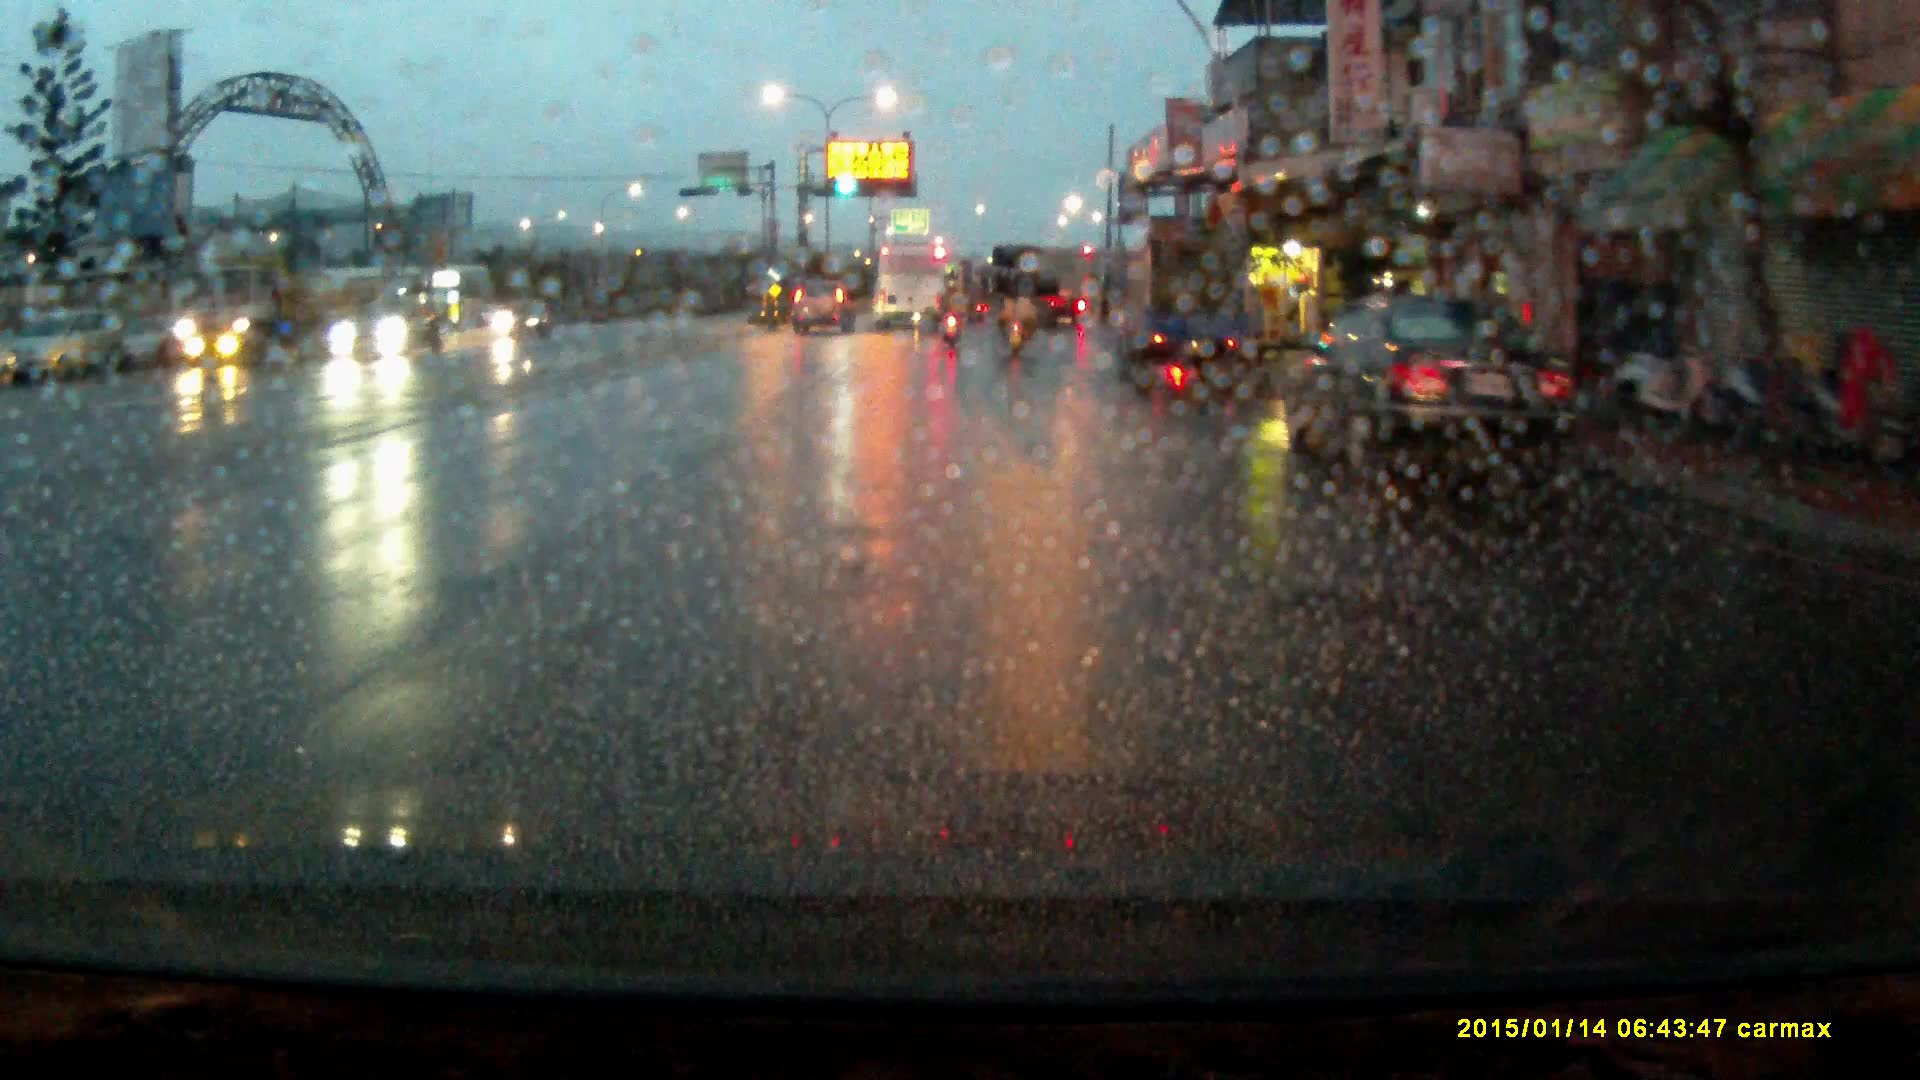rider: (997, 276, 1033, 359), (939, 284, 969, 354)
vehicle: (1298, 297, 1565, 501), (184, 253, 386, 368), (1114, 242, 1252, 377), (5, 310, 123, 390), (327, 304, 450, 366), (992, 248, 1062, 335), (876, 246, 945, 334), (793, 280, 857, 341), (488, 301, 558, 344)
